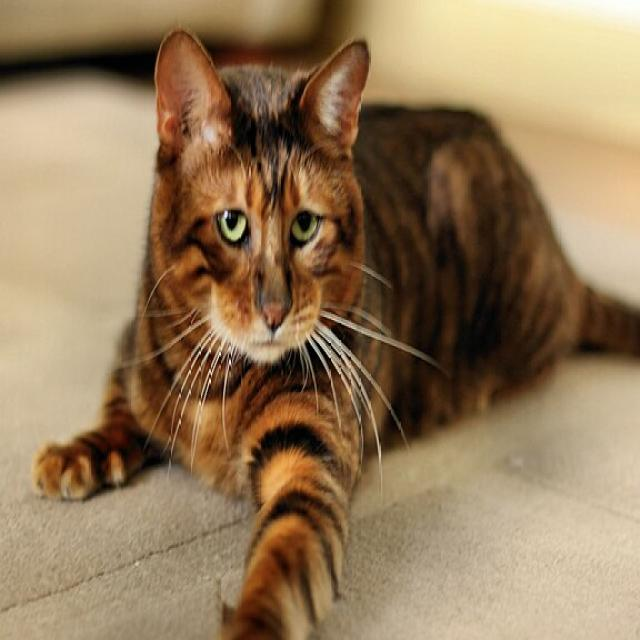Toyger: (29, 20, 640, 640)
